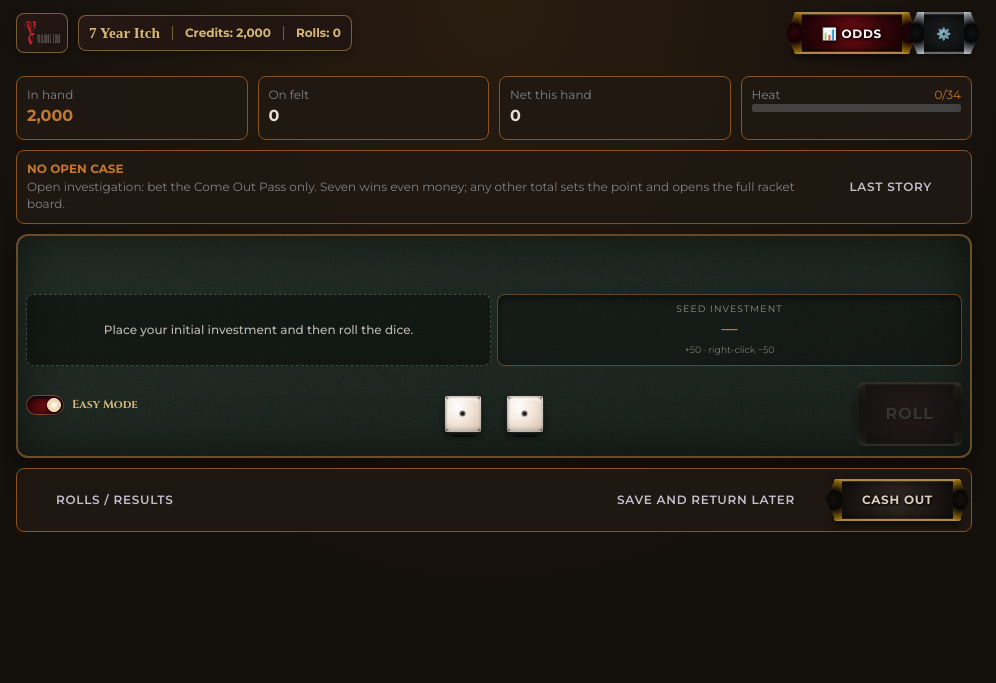
SevenYearItchRoot › places bets on both sister numbers in Easy Mode and deducts double chips
// Put pass line bet and roll
Click the button with test id "felt-pass" at (730, 330), box [497,294,962,366]
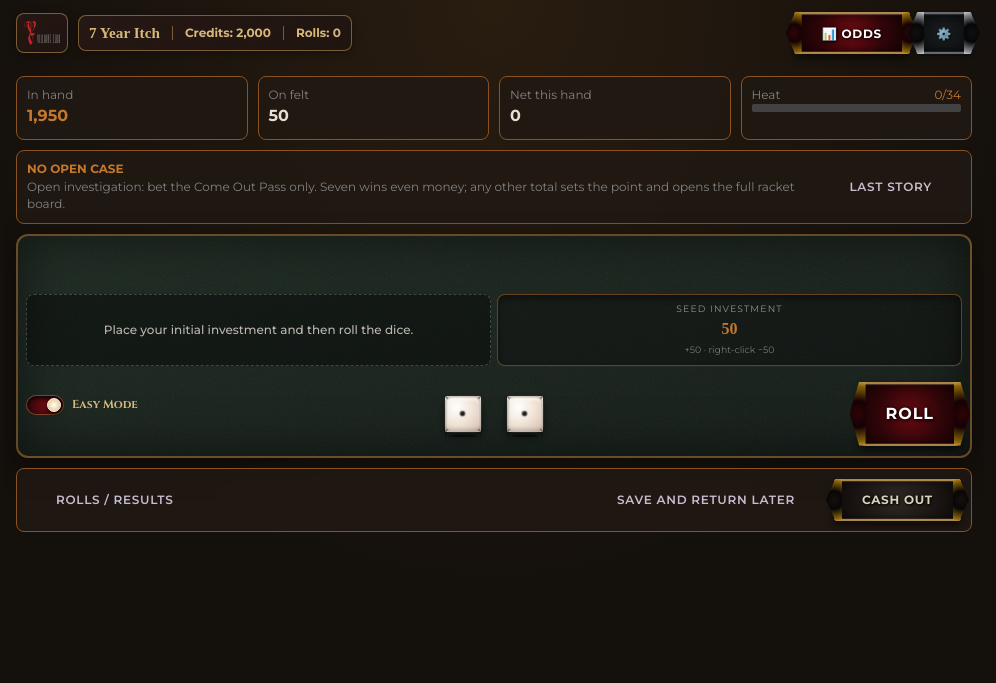
Expected: the text "50" below "On felt" is shown, [268,106,289,125]
Click the button "Roll" at (910, 414), box [858,382,962,446]
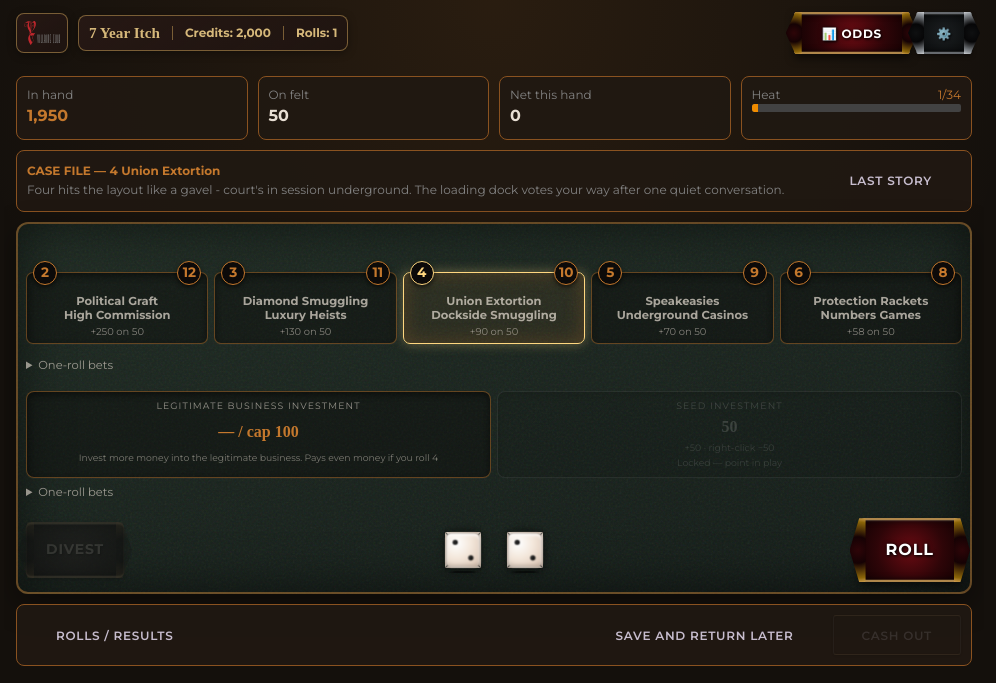
Click the button with test id "felt-place-easy-2-12" at (117, 308), box [26,272,208,344]
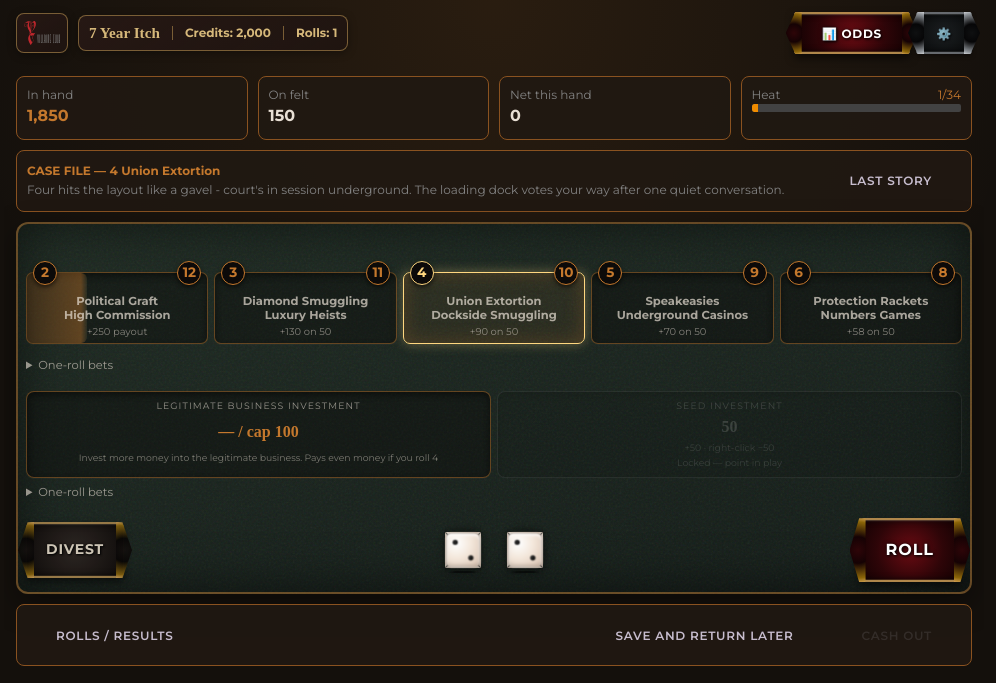
Expected: the text "150" is shown, [268,106,295,125]
Expected: the text "1,850" is shown, [27,106,69,125]
